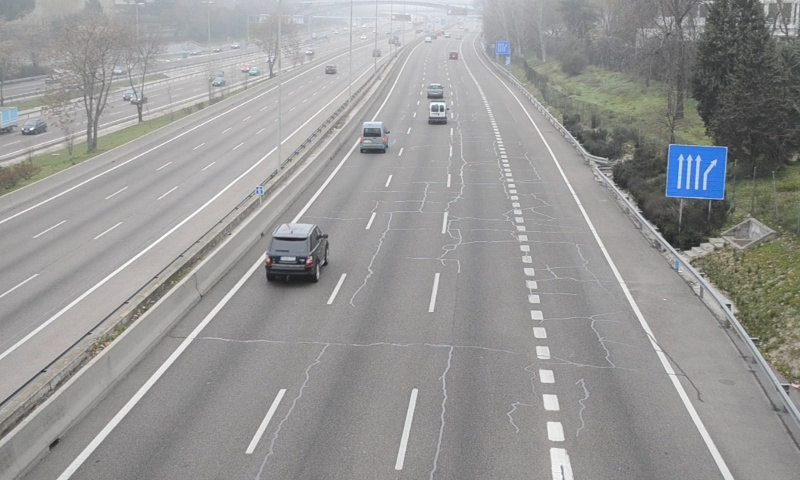car: (266, 223, 330, 278)
van: (360, 121, 386, 151), (428, 100, 448, 124)
